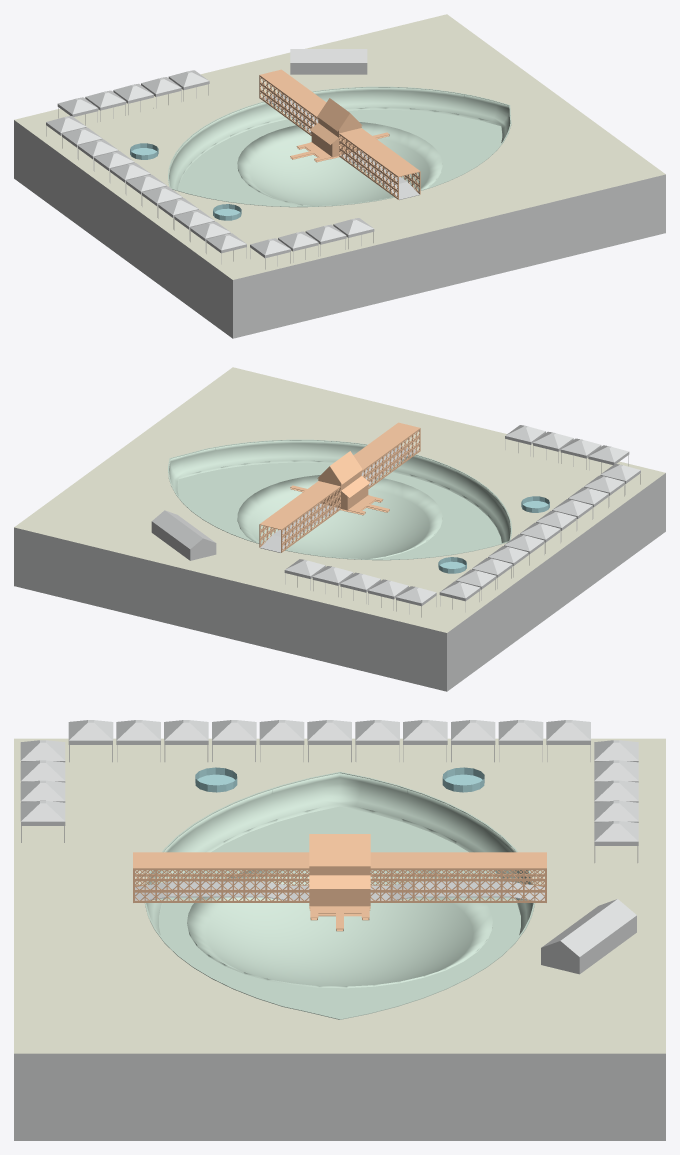
File: transdec.dae
3 views of the same model, one above another, from view 1: azimuth 30°, elevation 25°; view 2: azimuth 150°, elevation 25°; view 3: azimuth 270°, elevation 25° (orthographic). The views are drawn at different scales.
Visible parts, largest first — view 1: pool, canopies, tent, bridge_building, bridge_frame_1, bridge_roof_1, bridge_walkway, bridge_frame_2, bridge_roof_2, pool_ledge; view 2: pool, canopies, tent, bridge_building, bridge_frame_2, bridge_roof_2, bridge_walkway, bridge_frame_1, bridge_roof_1, pool_ledge; view 3: pool, canopies, bridge_frame_2, bridge_frame_1, bridge_building, tent, bridge_walkway, bridge_roof_2, bridge_roof_1, pool_ledge, ring_pool_2, ring_pool_1 (+1 smaller).
Boxes of the visible parts, bbox=[...] form: pool: bbox=[14, 14, 665, 338]; canopies: bbox=[46, 70, 374, 269]; tent: bbox=[290, 49, 367, 74]; bridge_building: bbox=[310, 98, 361, 156]; bridge_frame_1: bbox=[339, 134, 420, 199]; bridge_roof_1: bbox=[339, 128, 420, 176]; bridge_walkway: bbox=[262, 93, 419, 199]; bridge_frame_2: bbox=[259, 75, 318, 135]; bridge_roof_2: bbox=[260, 69, 326, 117]; pool_ledge: bbox=[168, 86, 511, 207]; pool: bbox=[14, 367, 665, 691]; canopies: bbox=[284, 425, 640, 617]; tent: bbox=[151, 510, 216, 560]; bridge_building: bbox=[318, 451, 369, 509]; bridge_frame_2: bbox=[259, 487, 340, 552]; bridge_roof_2: bbox=[259, 481, 340, 529]; bridge_walkway: bbox=[260, 446, 417, 552]; bridge_frame_1: bbox=[361, 428, 420, 488]; bridge_roof_1: bbox=[353, 422, 419, 470]; pool_ledge: bbox=[168, 439, 511, 560]; pool: bbox=[14, 738, 665, 1140]; canopies: bbox=[20, 720, 638, 862]; bridge_frame_2: bbox=[370, 868, 546, 902]; bridge_frame_1: bbox=[133, 868, 309, 902]; bridge_building: bbox=[309, 834, 370, 906]; tent: bbox=[541, 899, 636, 974]; bridge_walkway: bbox=[135, 881, 544, 900]; bridge_roof_2: bbox=[370, 852, 546, 868]; bridge_roof_1: bbox=[133, 852, 309, 868]; pool_ledge: bbox=[144, 772, 535, 1019]; ring_pool_2: bbox=[442, 767, 484, 792]; ring_pool_1: bbox=[195, 767, 237, 792].
Size of the model in its own units: 117 by 102 by 25.89.
